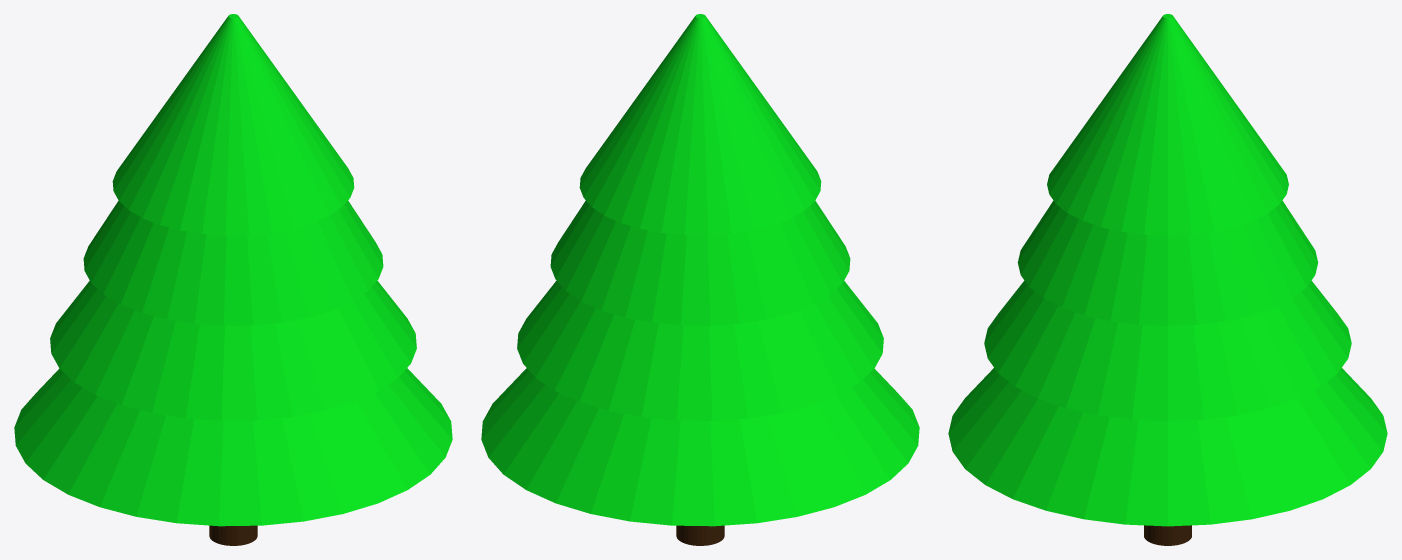
Rendered from Tree.fbx.
The picture shows the model from 3 angles, left to right: view 1: azimuth 30°, elevation 25°; view 2: azimuth 150°, elevation 25°; view 3: azimuth 270°, elevation 25°; orthographic projection.
Visible parts, largest first — view 1: Cylinder; view 2: Cylinder; view 3: Cylinder.
Boxes of the visible parts, box(x1,y1,x2,y2) form: Cylinder: box(14, 14, 452, 545); Cylinder: box(481, 14, 919, 545); Cylinder: box(948, 14, 1387, 545).
Size of the model in its own units: 632 by 824 by 632.
